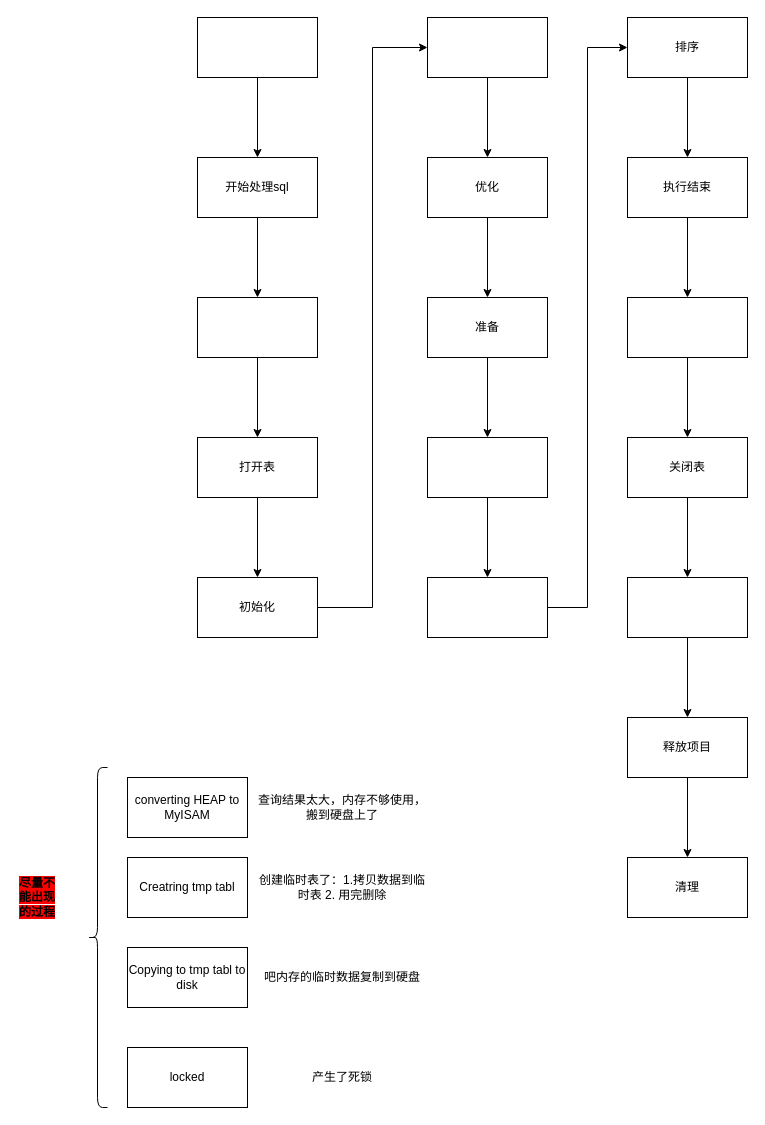
Some shapes in this 765 by 1125 pixel diagram are drawn without their labels. The shapes that lost their labels are listed below. From the top down, each one's box as (x1, y1, x2, y2) in pixels, then its label:
(196, 16, 318, 78): 通过Tcp会话接收sql
(426, 16, 548, 78): 系统锁等待
(196, 296, 318, 358): 权限检查
(626, 296, 748, 358): 查询结束
(426, 436, 548, 498): 执行
(426, 576, 548, 638): 发生数据
(626, 576, 748, 638): 关闭表/去除临时表
